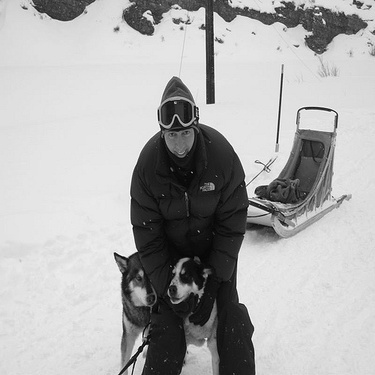dog: (162, 237, 238, 374), (100, 239, 177, 372)
